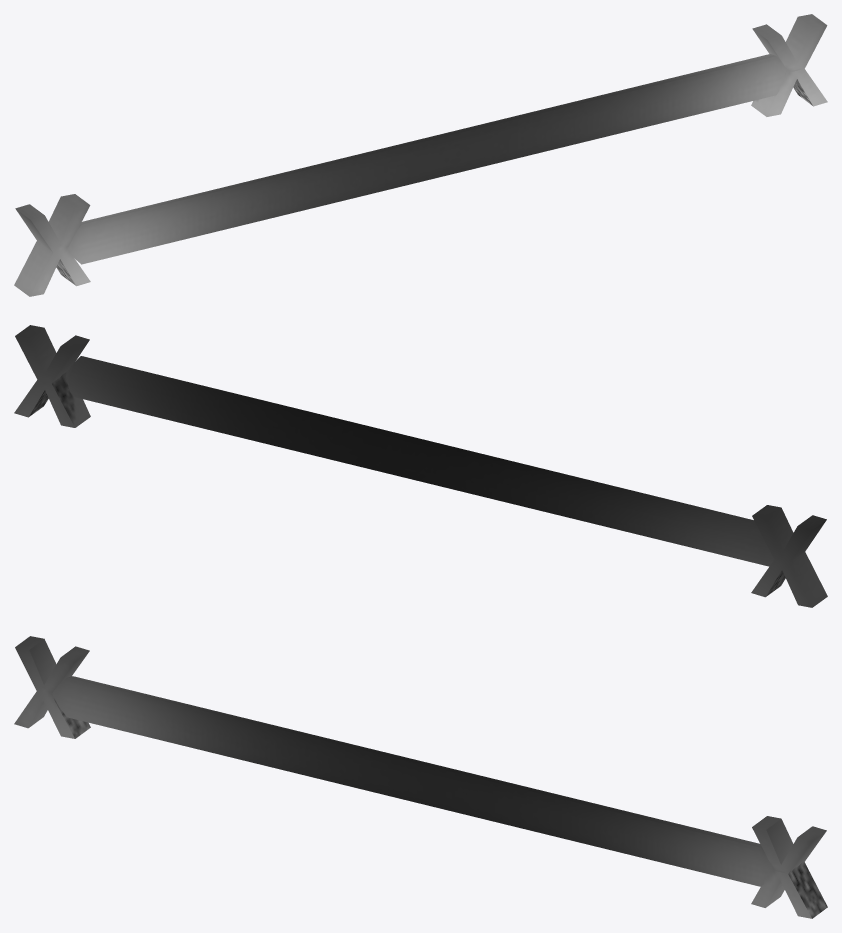
File: open.dae
3 renders of one model, top to bottom at view 1: azimuth 30°, elevation 25°; view 2: azimuth 150°, elevation 25°; view 3: azimuth 330°, elevation 25°, orthographic.
Parts seen in each view (by area): view 1: Mesh; view 2: Mesh; view 3: Mesh.
Boxes of the visible parts, x1=… form: Mesh: x1=14, y1=14, x2=827, y2=296; Mesh: x1=14, y1=325, x2=827, y2=607; Mesh: x1=14, y1=636, x2=827, y2=918.
Size of the model in its own units: 3.3 by 0.1196 by 0.3115.
